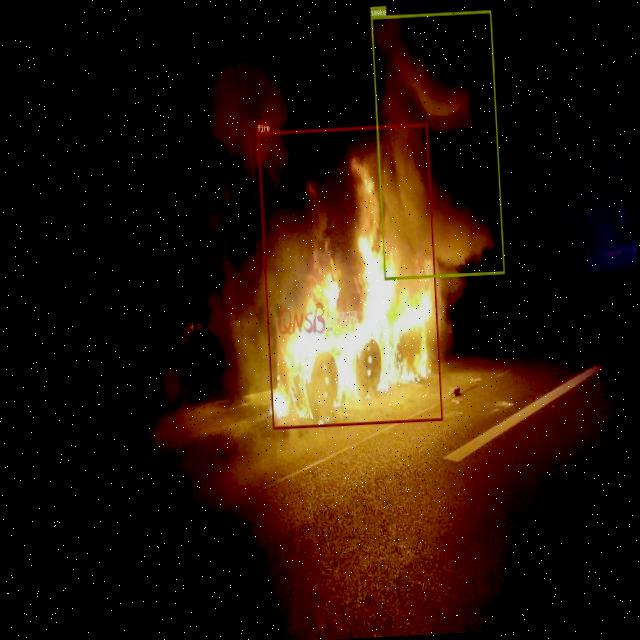fire: (258, 123, 443, 430)
smoke: (370, 9, 505, 280)
